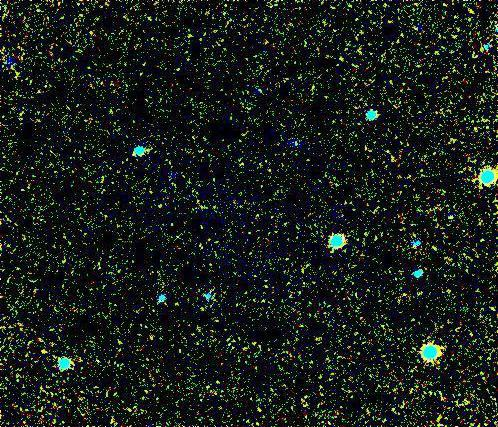star: (308, 331, 338, 361)
